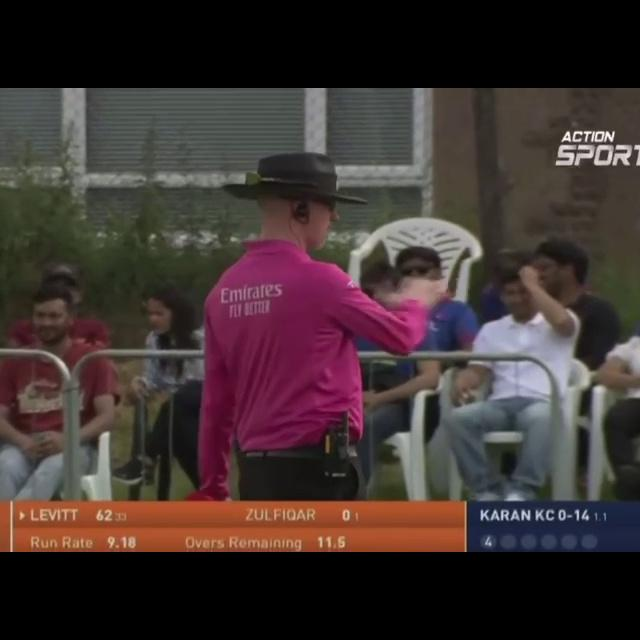umpire: (151, 143, 458, 498)
